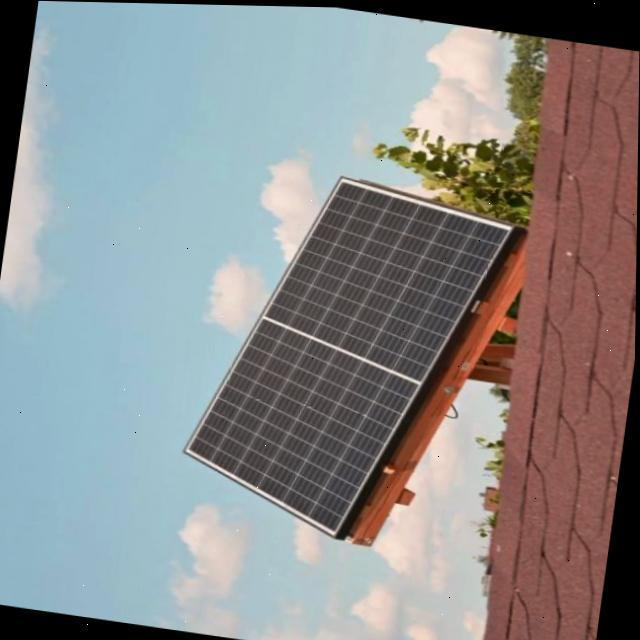Normal Solar Panel: (178, 158, 520, 554)
